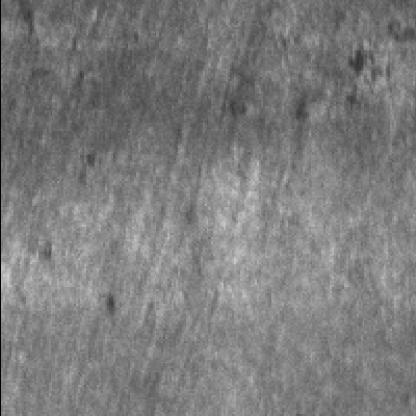rolled-in_scale: (341, 19, 416, 104)
